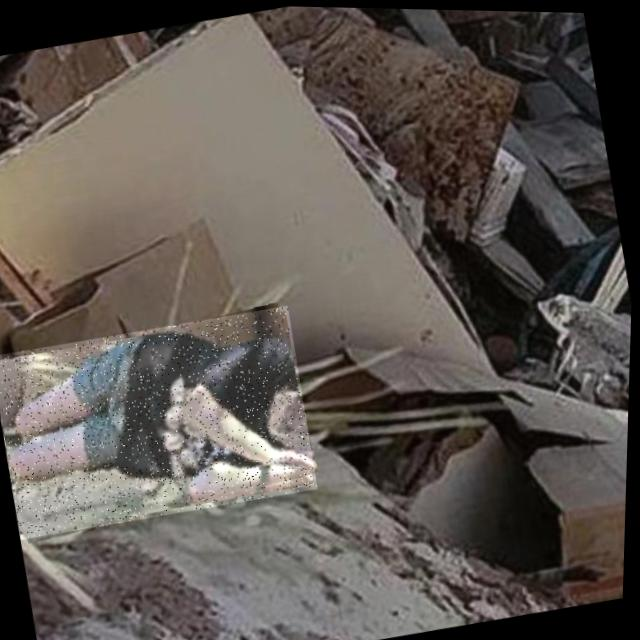Person in Rubble: (0, 299, 325, 545)
